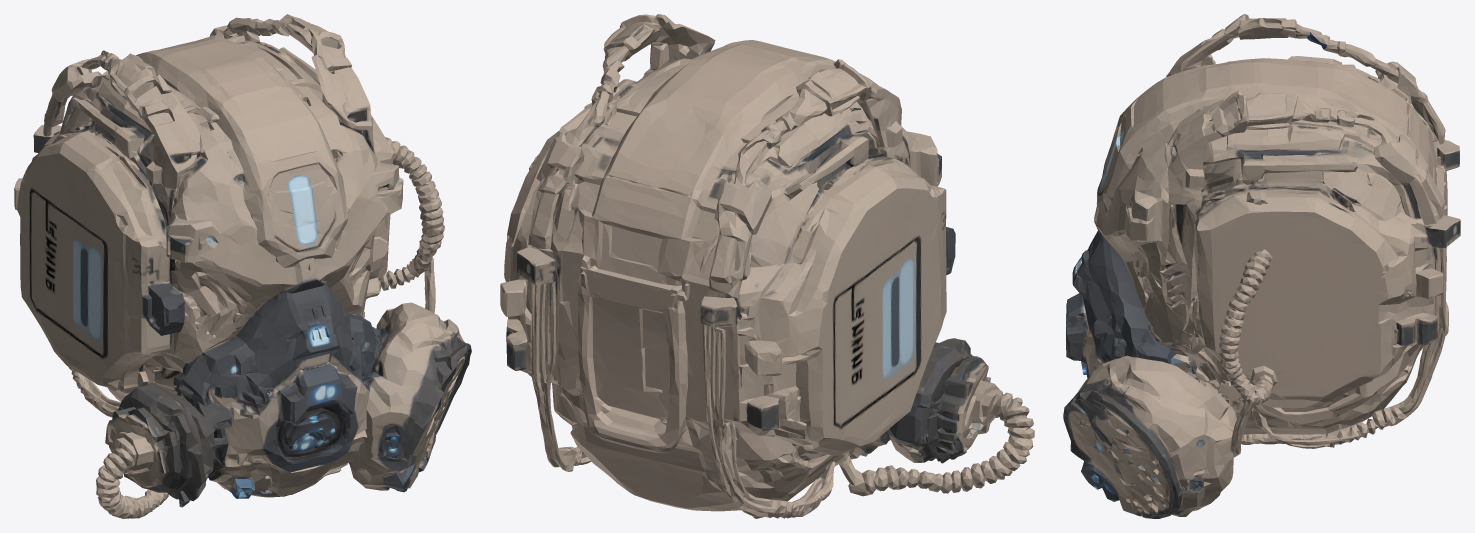
Rendered from helmet 1.glb.
3 views of the same model, side by side, from view 1: azimuth 30°, elevation 25°; view 2: azimuth 150°, elevation 25°; view 3: azimuth 270°, elevation 25° (orthographic). The views are drawn at different scales.
Parts seen in each view (by area): view 1: textured_mesh.obj; view 2: textured_mesh.obj; view 3: textured_mesh.obj.
Part boxes in pixels (x1,y1,x2,y2): textured_mesh.obj: (14, 14, 471, 518); textured_mesh.obj: (500, 14, 1034, 518); textured_mesh.obj: (1063, 14, 1460, 518).
Bounding box in the file's own units: 1.88 × 1.9 × 1.69.
1 material, 1 textured.
